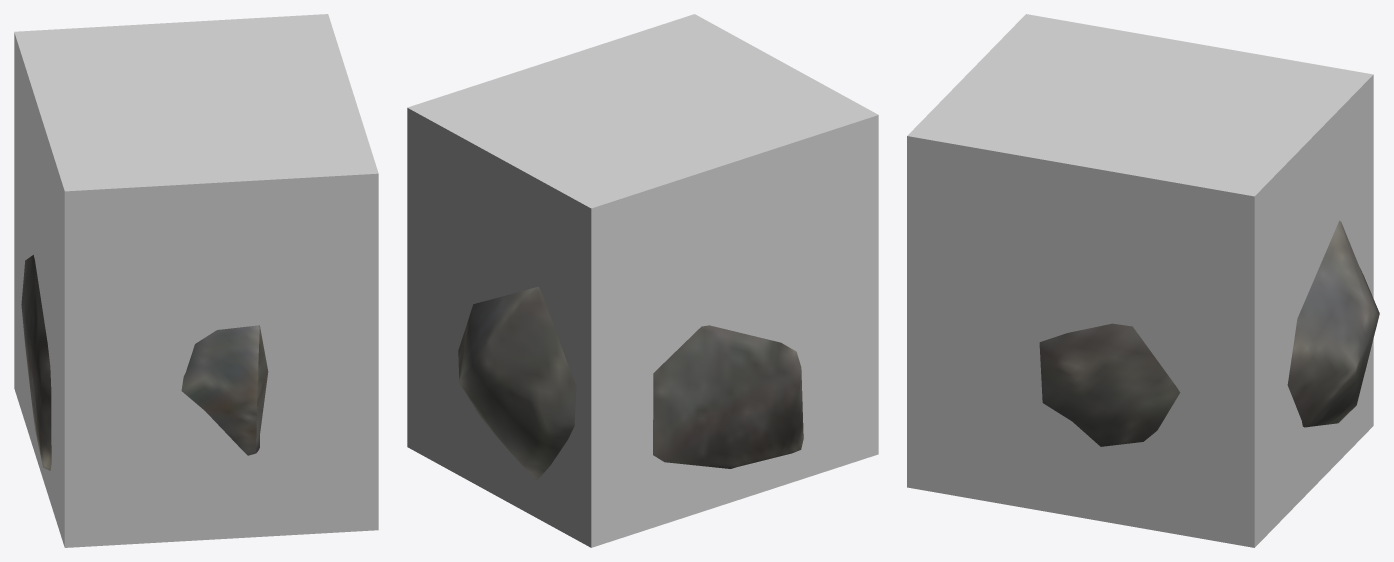
Rendered from Stone_L.fbx.
3 renders of one model, left to right at view 1: azimuth 30°, elevation 25°; view 2: azimuth 150°, elevation 25°; view 3: azimuth 270°, elevation 25°, orthographic. The views are drawn at different scales.
Parts seen in each view (by area): view 1: Cube__2_, Stone_Cliff_L__108_; view 2: Cube__2_, Stone_Cliff_L__108_; view 3: Cube__2_, Stone_Cliff_L__108_.
Part boxes in pixels (left/top/right/bottom): Cube__2_: left=14, top=14, right=378, bottom=547; Stone_Cliff_L__108_: left=21, top=255, right=268, bottom=470; Cube__2_: left=407, top=14, right=878, bottom=547; Stone_Cliff_L__108_: left=458, top=286, right=803, bottom=480; Cube__2_: left=907, top=14, right=1373, bottom=547; Stone_Cliff_L__108_: left=1039, top=220, right=1379, bottom=446.
Size of the model in its own units: 0.4279 by 0.3843 by 0.4684.
2 materials, 1 textured.
